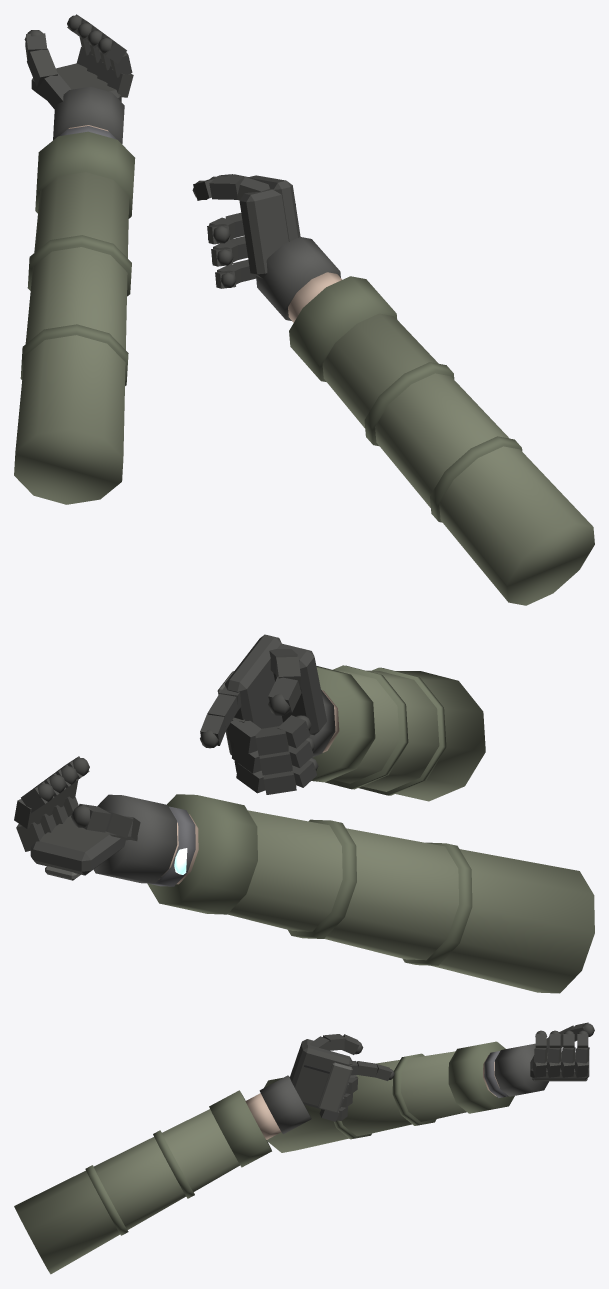
Rendered from hands_plasma_rifle.glb.
3 views of the same model, one above another, from view 1: azimuth 30°, elevation 25°; view 2: azimuth 150°, elevation 25°; view 3: azimuth 270°, elevation 25° (orthographic). The views are drawn at different scales.
Parts seen in each view (by area): view 1: Hands_plasma_rifle, HandL; view 2: HandL, Hands_plasma_rifle; view 3: Hands_plasma_rifle, HandL.
Part boxes in pixels (box(x1,y1,x2,y2)): Hands_plasma_rifle: box(192, 174, 594, 605); HandL: box(14, 14, 135, 504); HandL: box(14, 756, 594, 993); Hands_plasma_rifle: box(200, 634, 485, 801); Hands_plasma_rifle: box(14, 1034, 394, 1274); HandL: box(264, 1022, 594, 1152).
Bounding box in the file's own units: 0.4433 × 0.3442 × 0.8369.
